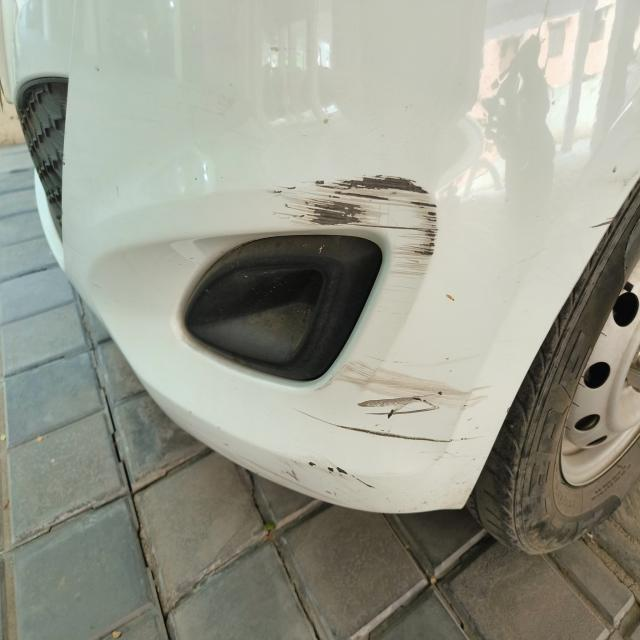scratch: (265, 170, 443, 282), (290, 360, 496, 446), (272, 449, 379, 510)
